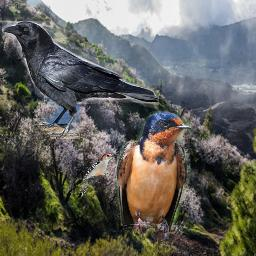Crow: (2, 21, 159, 139)
Swallow: (116, 111, 192, 241)
Woodpecker: (77, 153, 119, 199)
